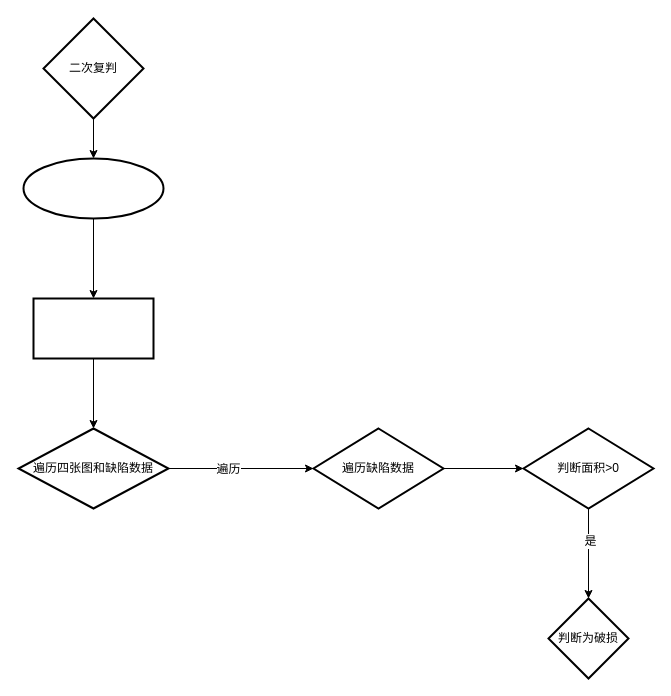
This 671x696 diagram has some shape labels left out. The shapes that lost their labels are listed below. From the top down, each one's centre as x and y in pixels, then its label:
point 93,188: 四张图，缺陷结构体
point 93,328: 设置图片相对偏移量
